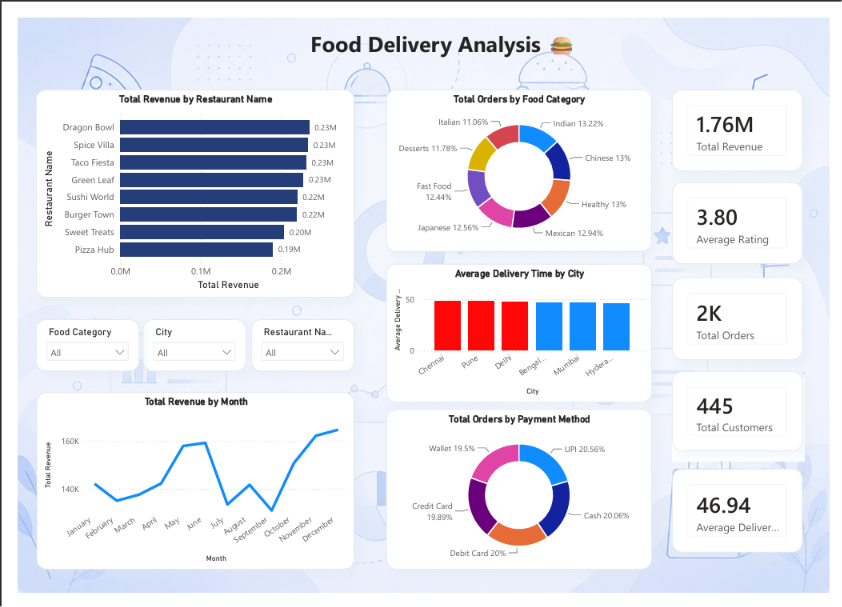

This screenshot's page, from the dashboard's own definition file:
{"tool":"powerbi","page":{"name":"Page 1","canvas":[1200,850],"ordinal":0},"visuals":[{"type":"cardVisual","fields":{"Data":["Orders.Total Revenue"]},"box":[967.1,105.7,192.9,121.4],"z":0},{"type":"cardVisual","fields":{"Data":["Orders.Total Orders"]},"box":[967.1,384.3,192.9,121.4],"z":1000},{"type":"cardVisual","fields":{"Data":["Orders.Average Rating"]},"box":[967.1,532.9,195.7,124.3],"z":2000},{"type":"cardVisual","fields":{"Data":["Orders.Average Delivery Time"]},"box":[967.1,667.1,192.9,124.3],"z":3000},{"type":"cardVisual","fields":{"Data":["Orders.Total Customers"]},"box":[967.1,522.9,192.9,118.6],"z":4000},{"type":"clusteredBarChart","fields":{"Category":["Orders.Restaurant Name"],"Y":["Orders.Total Revenue"]},"box":[25.7,105.7,471.4,308.6],"z":5000},{"type":"donutChart","fields":{"Category":["Orders.Food Category"],"Y":["Orders.Total Orders"]},"box":[544.3,105.7,392.9,240],"z":6000},{"type":"lineChart","fields":{"Category":["Orders.Order Date.Variation.Date Hierarchy.Month"],"Y":["Orders.Total Revenue"]},"box":[27.1,554.3,470,261.4],"z":7000},{"type":"clusteredColumnChart","fields":{"Category":["Orders.City"],"Y":["Orders.Average Delivery Time"]},"box":[544.3,364.3,392.9,204.3],"z":8000},{"type":"donutChart","fields":{"Category":["Orders.Payment Method"],"Y":["Orders.Total Orders"]},"box":[544.3,578.6,392.9,237.1],"z":9000},{"type":"slicer","fields":{"Values":["Orders.Restaurant Name"]},"box":[344.3,445.7,152.9,77.1],"z":10000},{"type":"slicer","fields":{"Values":["Orders.City"]},"box":[184.3,445.7,152.9,77.1],"z":11000},{"type":"slicer","fields":{"Values":["Orders.Food Category"]},"box":[25.7,445.7,152.9,77.1],"z":12000},{"type":"textbox","box":[250,10,748.6,61.4],"z":13000},{"type":"cardVisual","fields":{"Data":["Orders.Average Rating"]},"box":[967.1,242.9,192.9,121.4],"z":14000}]}

Visuals, with their boxes in screenshot pixels (x1, y1, x2, y2), scaled from the page's 1200x850 canvas onto the 842x607 screenshot:
cardVisual - Orders.Total Revenue: <box>679,75,814,162</box>
cardVisual - Orders.Total Orders: <box>679,274,814,361</box>
cardVisual - Orders.Average Rating: <box>679,381,816,469</box>
cardVisual - Orders.Average Delivery Time: <box>679,476,814,565</box>
cardVisual - Orders.Total Customers: <box>679,373,814,458</box>
clusteredBarChart - Orders.Restaurant Name x Orders.Total Revenue: <box>18,75,349,296</box>
donutChart - Orders.Food Category x Orders.Total Orders: <box>382,75,658,247</box>
lineChart - Orders.Order Date.Variation.Date Hierarchy.Month x Orders.Total Revenue: <box>19,396,349,583</box>
clusteredColumnChart - Orders.City x Orders.Average Delivery Time: <box>382,260,658,406</box>
donutChart - Orders.Payment Method x Orders.Total Orders: <box>382,413,658,583</box>
slicer - Orders.Restaurant Name: <box>242,318,349,373</box>
slicer - Orders.City: <box>129,318,237,373</box>
slicer - Orders.Food Category: <box>18,318,125,373</box>
textbox: <box>175,7,701,51</box>
cardVisual - Orders.Average Rating: <box>679,173,814,260</box>
